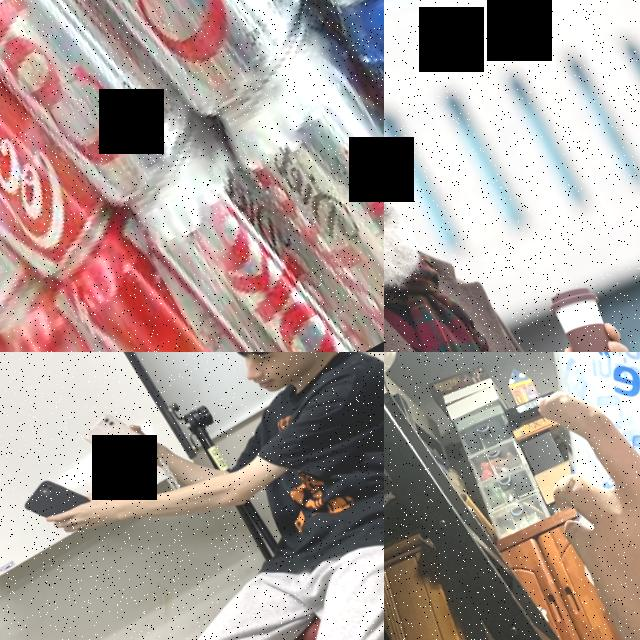can: (0, 0, 334, 154), (0, 0, 209, 238), (0, 0, 131, 318), (304, 0, 384, 284)
cup: (423, 352, 640, 591), (541, 275, 640, 352)
